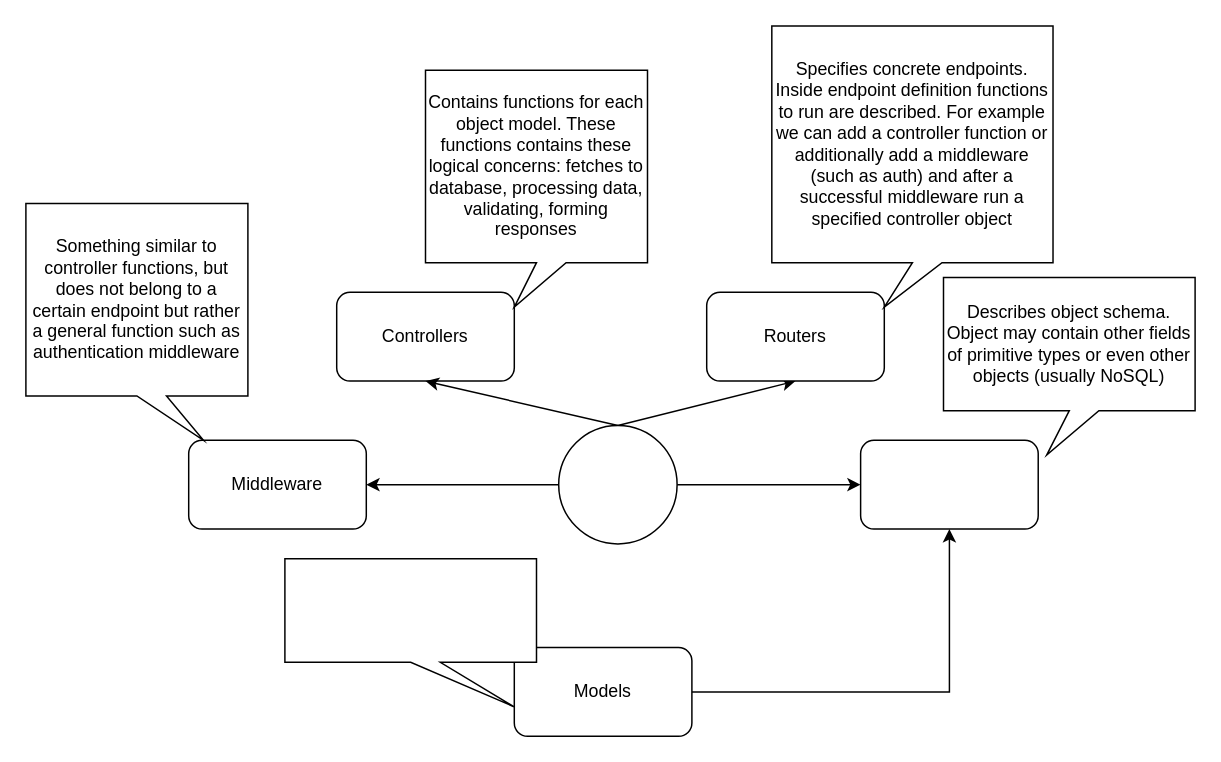
Some shapes in this 1221 by 762 pixel diagram are drawn without their labels. The shapes that lost their labels are listed below. From the top down, each one's centre as x and y in pixels, then its label:
At [617,484]: "Javascript Backend".
At [948,484]: "Schemas".
At [409,632]: "Represents a domain model and is built from defined schemas".
